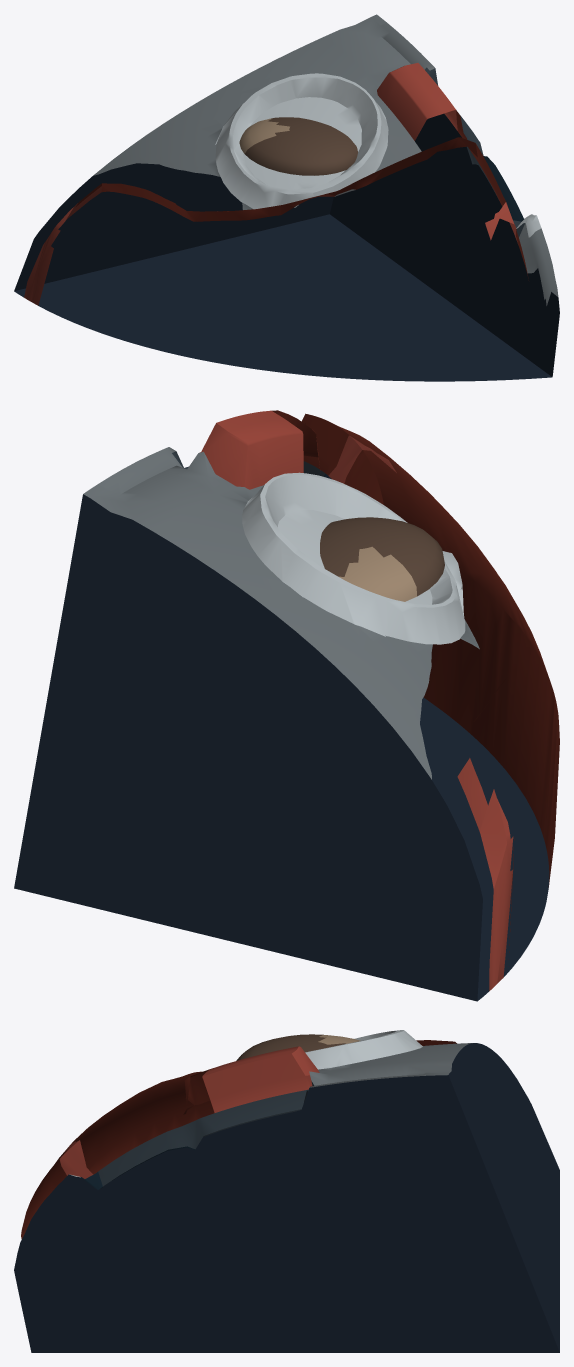
Rendered from armour_dome_bl.glb.
3 views of the same model, one above another, from view 1: azimuth 30°, elevation 25°; view 2: azimuth 150°, elevation 25°; view 3: azimuth 270°, elevation 25° (orthographic). The views are drawn at different scales.
Visible parts, largest first — view 1: armour_dome_bl; view 2: armour_dome_bl; view 3: armour_dome_bl.
Part boxes in pixels (left/top/right/bottom): armour_dome_bl: left=14, top=14, right=559, bottom=381; armour_dome_bl: left=14, top=410, right=559, bottom=1001; armour_dome_bl: left=14, top=1030, right=559, bottom=1352.
Bounding box in the file's own units: 17.98 × 13.08 × 22.71.
